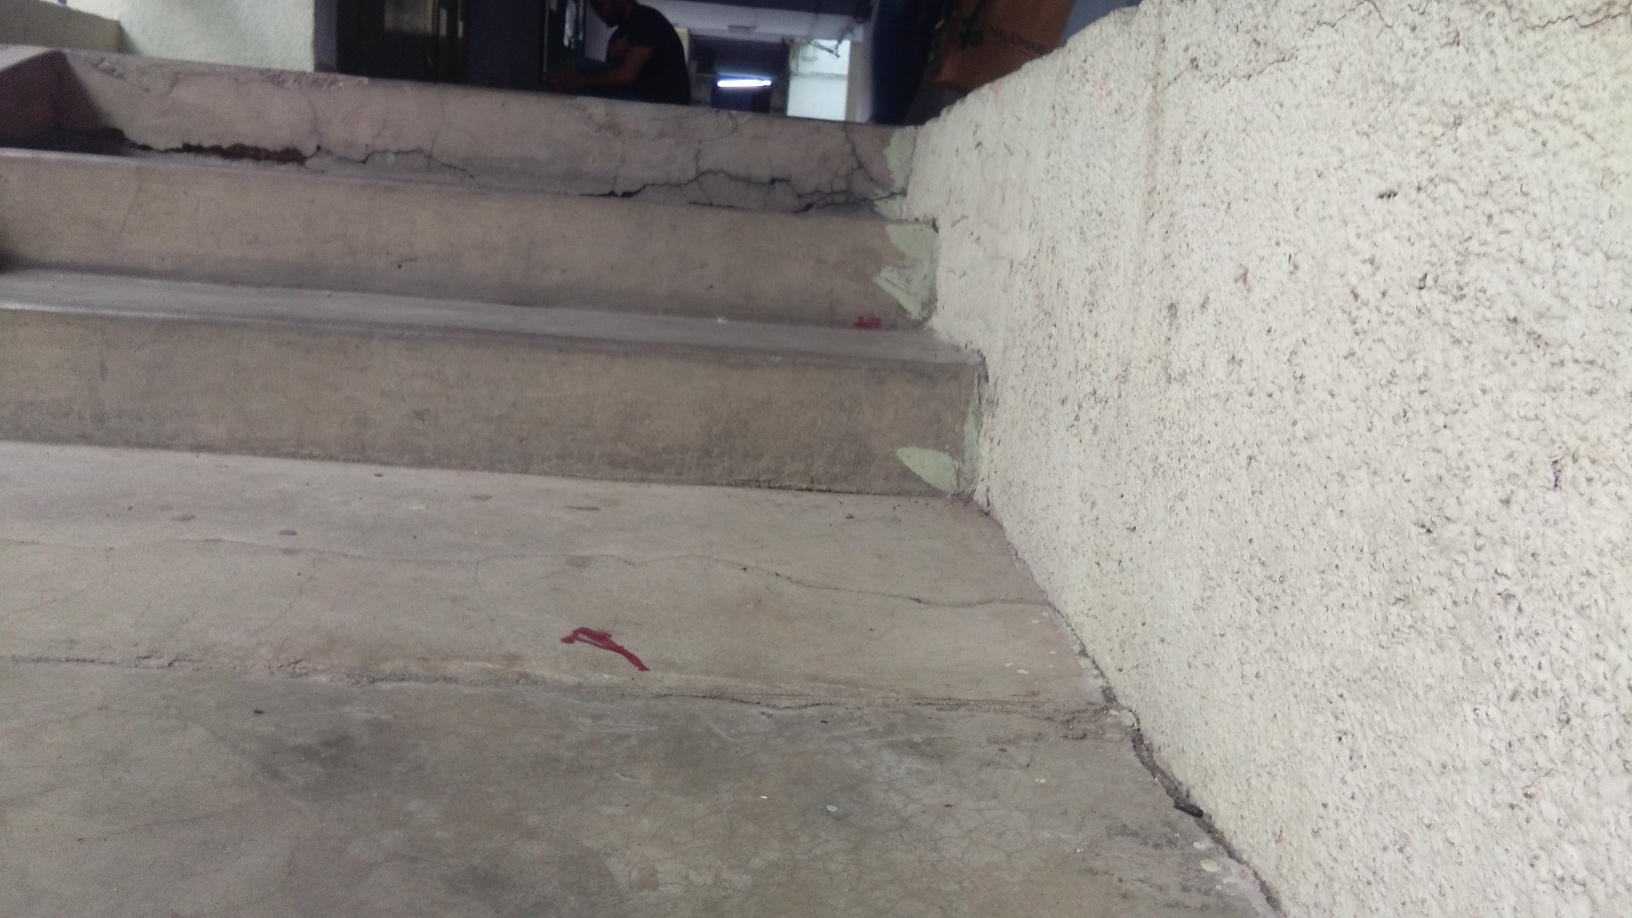stairs_up: (37, 19, 977, 543)
